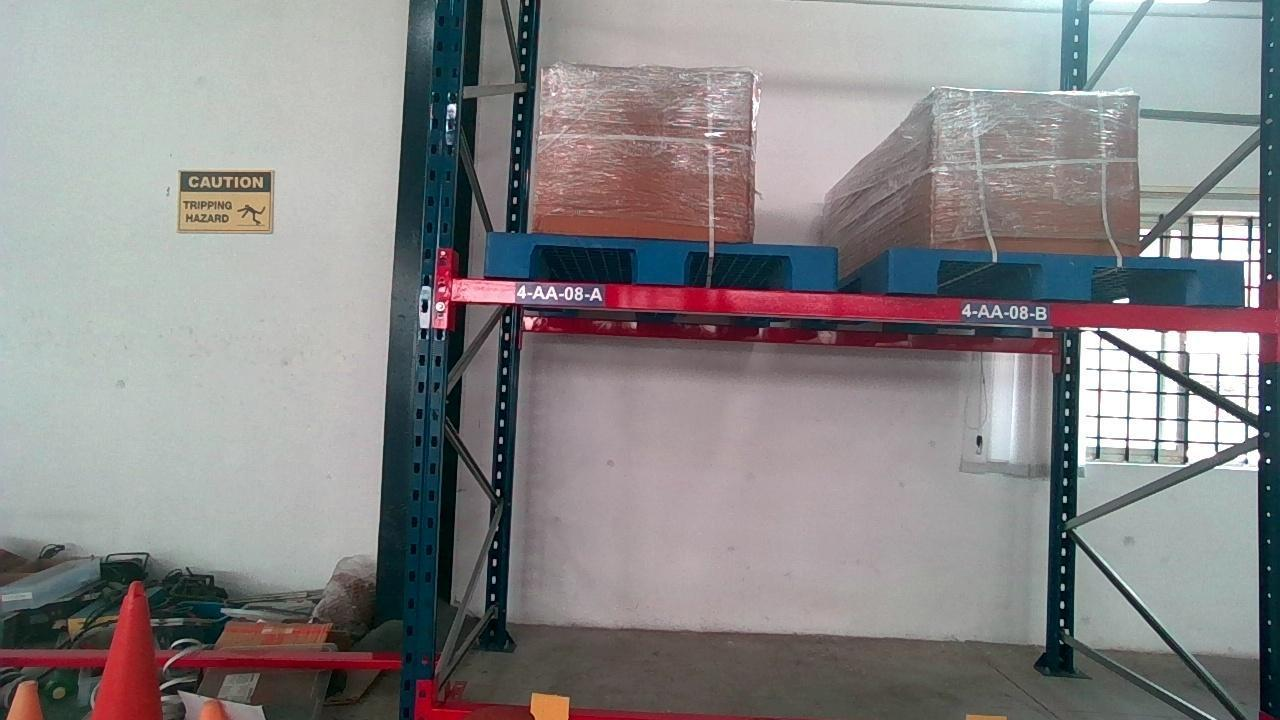h_rack: (471, 287, 1253, 326)
orange_strip: (528, 692, 570, 720)
small_pallet: (895, 250, 1237, 300), (485, 237, 838, 283)
